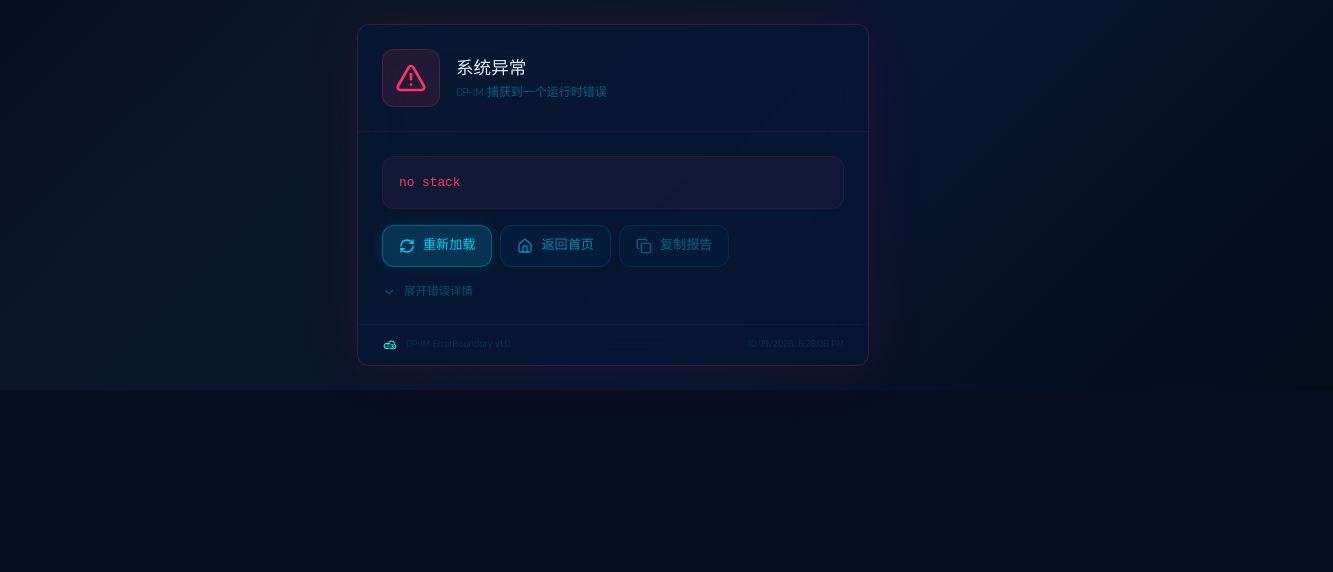
it: ErrorBoundary › 空状态兜底 › page 级: 无堆栈错误展开详情时显示占位文案
Step 1. Click the button "展开错误详情" → (428, 292), box [382,283,473,300]
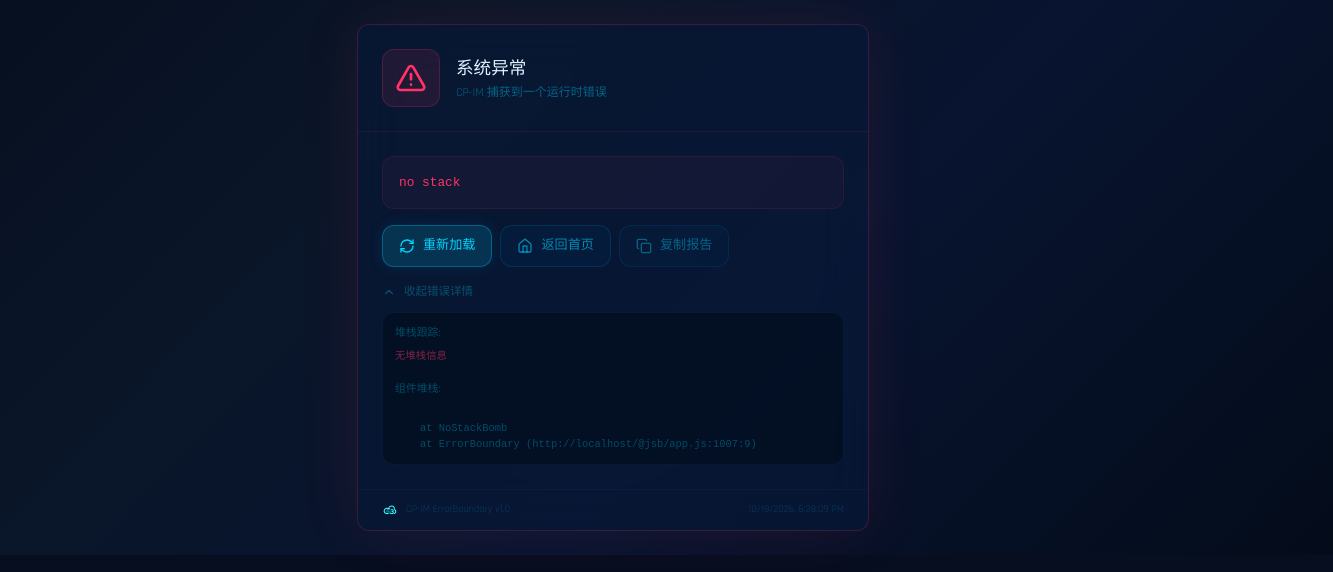
Expected: the text "无堆栈信息" is shown, [395,350,447,362]
